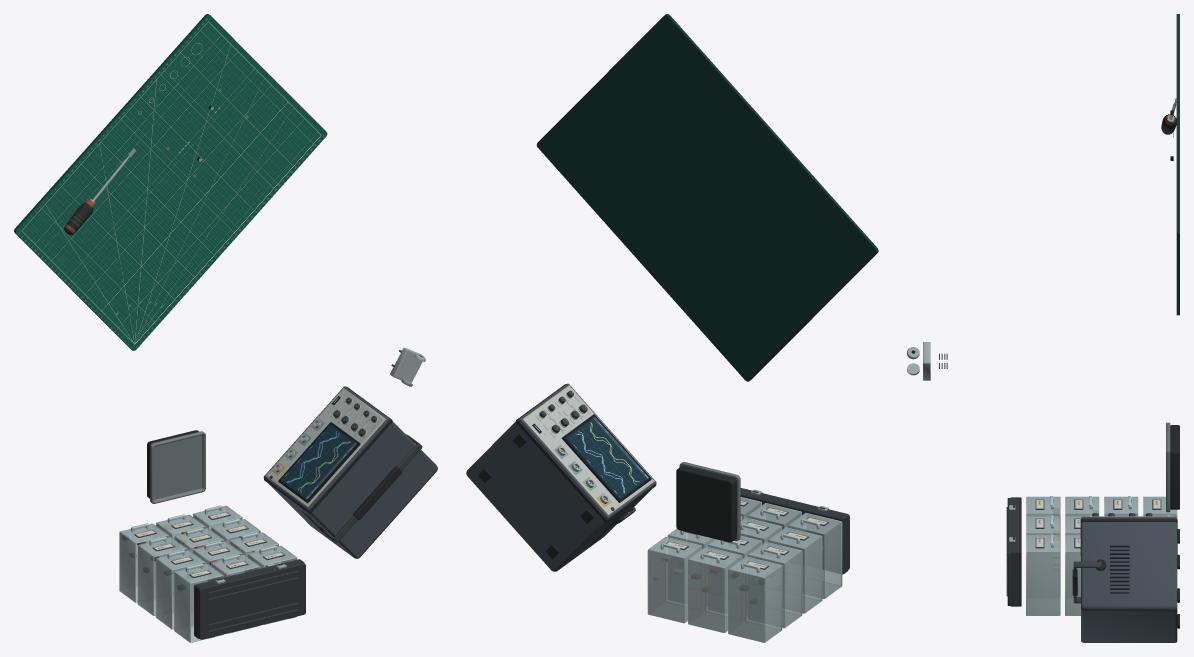
File: bench-finish.glb
The picture shows the model from 3 angles, left to right: view 1: azimuth 30°, elevation 25°; view 2: azimuth 150°, elevation 25°; view 3: azimuth 270°, elevation 25°; orthographic projection. The views are drawn at different scales.
Parts seen in each view (by area): view 1: R02-MAT Cutting grid and fine cuts, R02 Scope moulded shell, TOOL-CASE Injection moulded case, R02-TRAY Bead-blasted utility tray, R02 Scope phosphor and graticule, R02 Instrument panel silk, R03-BIN-07 Smoked translucent polypropylene, R03-BIN-10 Smoked translucent polypropylene, R03-BIN-04 Smoked translucent polypropylene, R03-BIN-01 Smoked translucent polypropylene, R02 Grip elastomer, R02-MAT Cutting mat ply (+5 smaller); view 2: R02-MAT Cutting mat ply, R02 Scope moulded shell, R03-BIN-01 Smoked translucent polypropylene, R02-TRAY Grip elastomer, R03-BIN-04 Smoked translucent polypropylene, R03-BIN-03 Smoked translucent polypropylene, R03-BIN-02 Smoked translucent polypropylene, R02 Scope phosphor and graticule, R03-BIN-07 Smoked translucent polypropylene, R03-BIN-10 Smoked translucent polypropylene, TOOL-CASE Injection moulded case, R02 Instrument panel silk (+7 smaller); view 3: R02 Scope moulded shell, R03-BIN-12 Smoked translucent polypropylene, TOOL-CASE Injection moulded case, R02-MAT Cutting mat ply, R03-BIN-09 Smoked translucent polypropylene, R02 Grip elastomer, R02-TRAY Grip elastomer, R01-GRIPPER Burnished aluminium, R02 Recess and button seals, R03-BIN-11 Smoked translucent polypropylene, R03-BIN-10 Smoked translucent polypropylene, R03-BIN-07 Smoked translucent polypropylene (+4 smaller).
Part boxes in pixels (box(x1,y1,x2,y2)): R02-MAT Cutting grid and fine cuts: box(16, 15, 326, 350); R02 Scope moulded shell: box(263, 386, 437, 558); TOOL-CASE Injection moulded case: box(194, 559, 305, 639); R02-TRAY Bead-blasted utility tray: box(150, 431, 205, 503); R02 Scope phosphor and graticule: box(280, 424, 356, 499); R02 Instrument panel silk: box(268, 390, 382, 503); R03-BIN-07 Smoked translucent polypropylene: box(155, 550, 204, 628); R03-BIN-10 Smoked translucent polypropylene: box(174, 563, 222, 642); R03-BIN-04 Smoked translucent polypropylene: box(137, 537, 186, 615); R03-BIN-01 Smoked translucent polypropylene: box(119, 523, 167, 602); R02 Grip elastomer: box(264, 386, 408, 532); R02-MAT Cutting mat ply: box(14, 14, 327, 350); R02-MAT Cutting mat ply: box(536, 14, 878, 381); R02 Scope moulded shell: box(466, 383, 656, 571); R03-BIN-01 Smoked translucent polypropylene: box(728, 557, 781, 642); R02-TRAY Grip elastomer: box(676, 465, 736, 542); R03-BIN-04 Smoked translucent polypropylene: box(748, 542, 801, 628); R03-BIN-03 Smoked translucent polypropylene: box(647, 537, 701, 623); R03-BIN-02 Smoked translucent polypropylene: box(688, 547, 741, 632); R02 Scope phosphor and graticule: box(566, 417, 648, 498); R03-BIN-07 Smoked translucent polypropylene: box(768, 527, 821, 613); R03-BIN-10 Smoked translucent polypropylene: box(788, 513, 841, 598); TOOL-CASE Injection moulded case: box(740, 488, 849, 574); R02 Instrument panel silk: box(526, 388, 651, 512); R02 Scope moulded shell: box(1081, 516, 1177, 642); R03-BIN-12 Smoked translucent polypropylene: box(1027, 535, 1060, 615); TOOL-CASE Injection moulded case: box(1007, 497, 1021, 606); R02-MAT Cutting mat ply: box(1176, 14, 1179, 315); R03-BIN-09 Smoked translucent polypropylene: box(1066, 535, 1080, 615); R02 Grip elastomer: box(1072, 518, 1179, 628); R02-TRAY Grip elastomer: box(1170, 425, 1179, 509); R01-GRIPPER Burnished aluminium: box(907, 342, 930, 380); R02 Recess and button seals: box(1110, 545, 1129, 593); R03-BIN-11 Smoked translucent polypropylene: box(1027, 515, 1060, 535); R03-BIN-10 Smoked translucent polypropylene: box(1027, 496, 1060, 515); R03-BIN-07 Smoked translucent polypropylene: box(1066, 496, 1099, 515).
Size of the model in its own units: 0.7299 by 1.02 by 0.4272.
23 materials, 4 textured.
